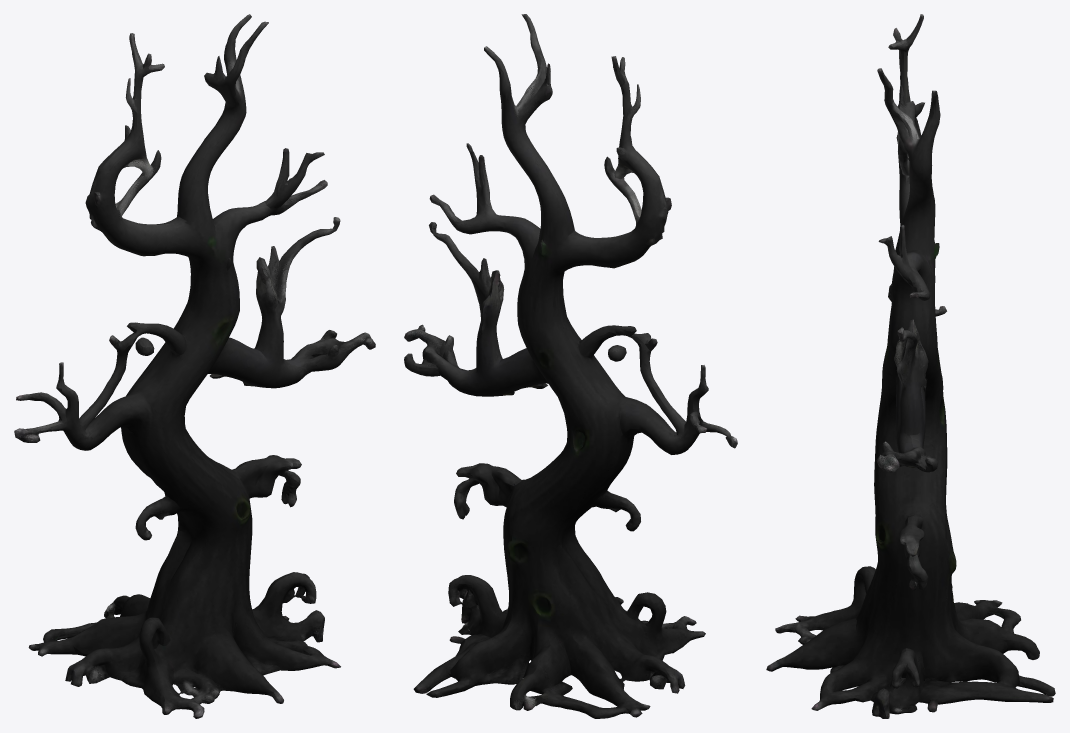
File: scarytree3.glb
3 renders of one model, left to right at view 1: azimuth 30°, elevation 25°; view 2: azimuth 150°, elevation 25°; view 3: azimuth 270°, elevation 25°, orthographic.
Visible parts, largest first — view 1: mesh; view 2: mesh; view 3: mesh.
Part boxes in pixels (x1,y1,x2,y2): mesh: [14, 14, 375, 718]; mesh: [404, 14, 737, 718]; mesh: [766, 14, 1055, 718].
Size of the model in its own units: 0.5758 by 1 by 0.4207.
Materials: 1 (1 with a texture image).
